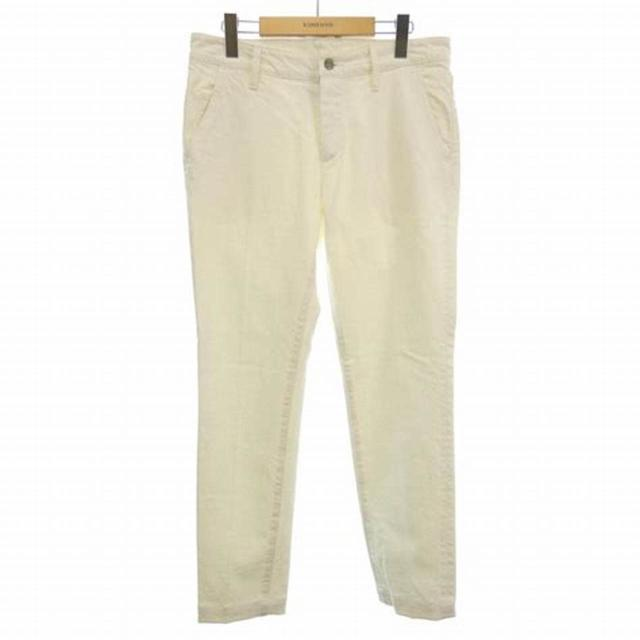long-pants: (180, 29, 462, 626)
